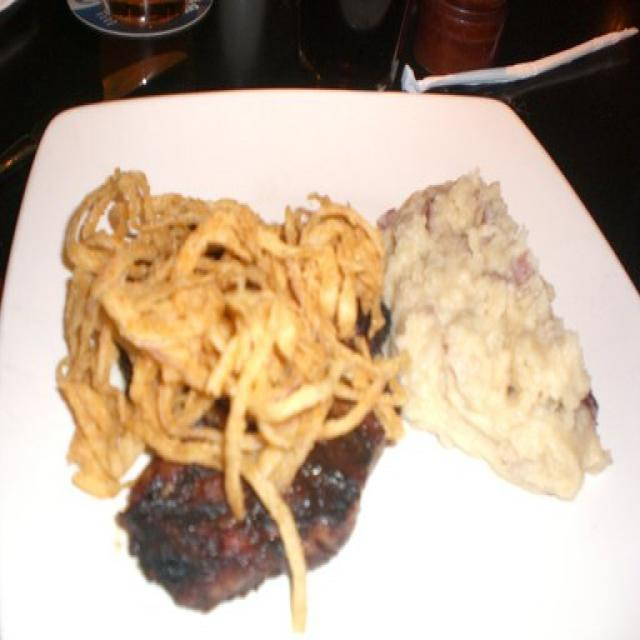French fries: (82, 162, 437, 448)
Steak: (112, 412, 430, 607)
